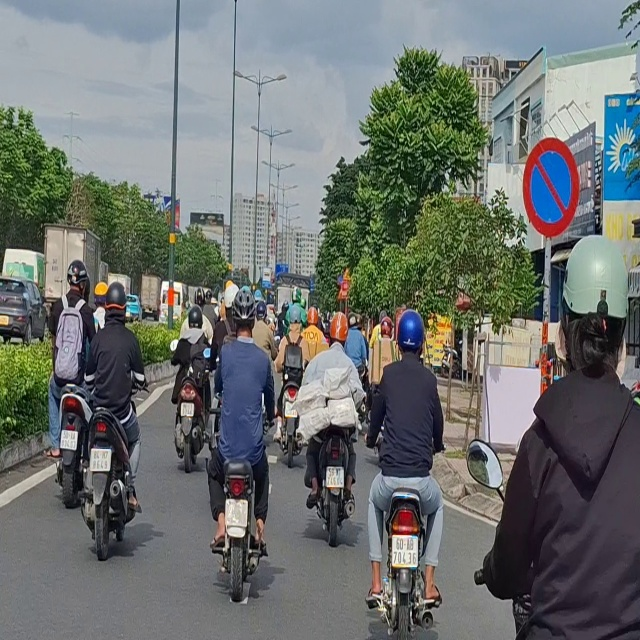cam do xe: (510, 126, 583, 243)
